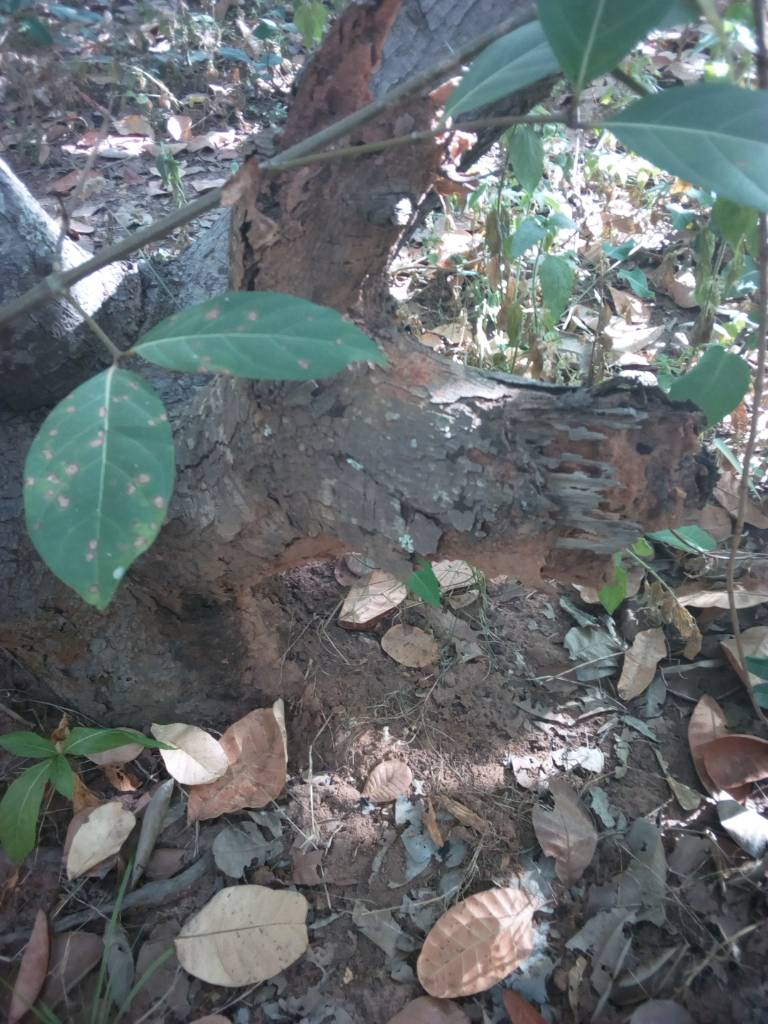Termites: (400, 372, 702, 596)
